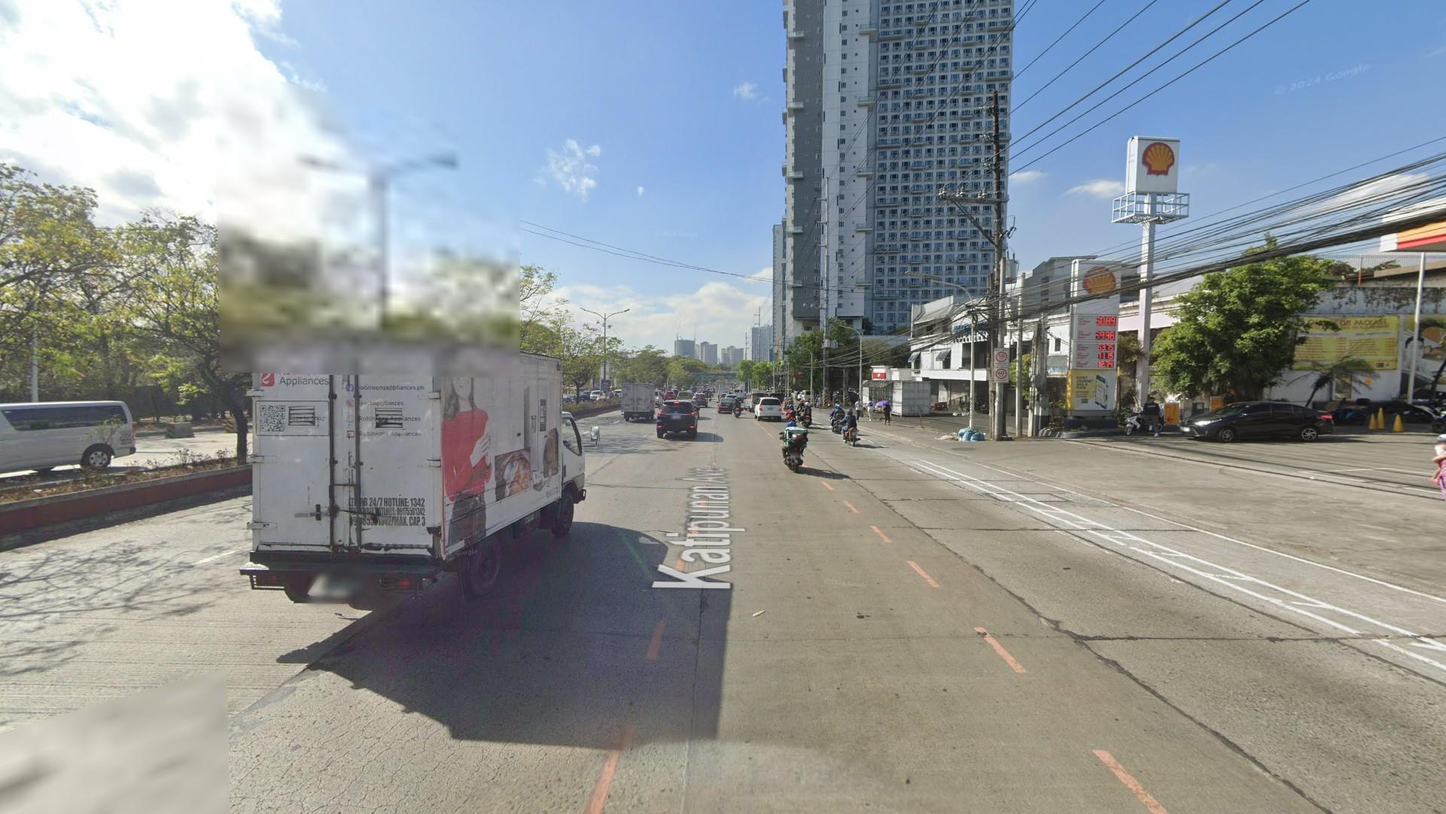pedestrian: (1143, 397, 1161, 437), (866, 397, 875, 422), (883, 403, 892, 426), (855, 398, 863, 422), (817, 395, 823, 412)
